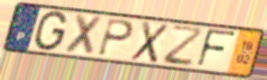F: (195, 27, 239, 69)
G: (31, 10, 70, 53)
P: (95, 17, 136, 59)
X: (62, 12, 106, 58), (128, 19, 172, 65)
Z: (162, 24, 206, 69)
